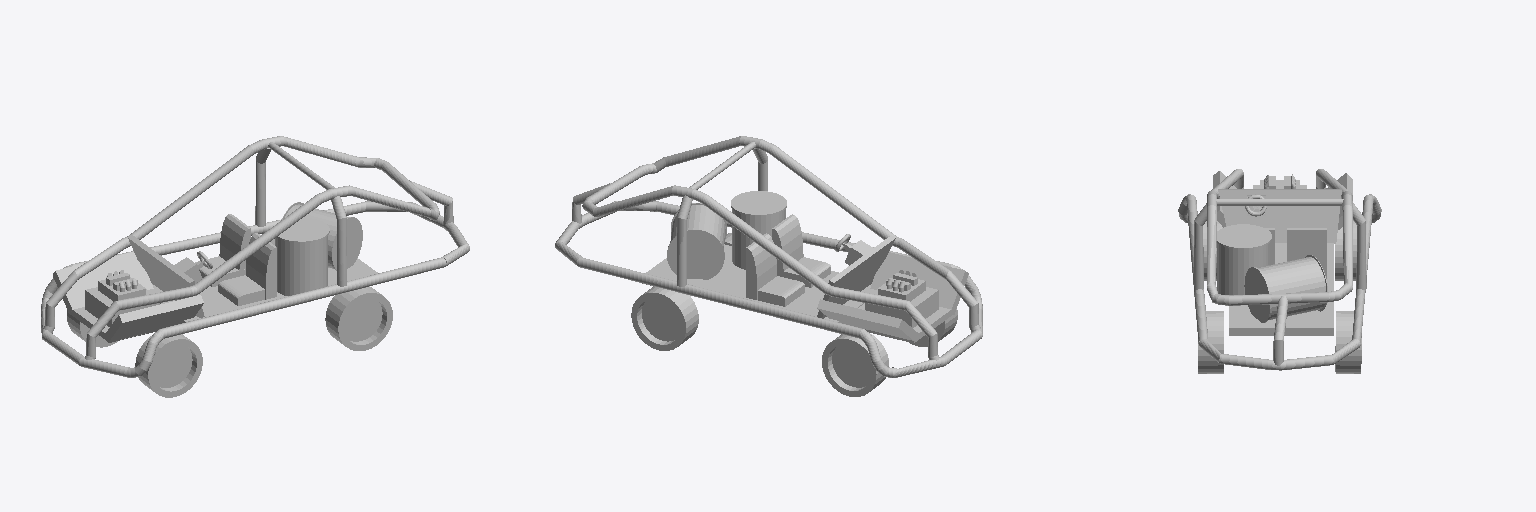
The model's file is buggy.obj.
3 renders of one model, left to right at view 1: azimuth 30°, elevation 25°; view 2: azimuth 150°, elevation 25°; view 3: azimuth 270°, elevation 25°, orthographic.
Parts seen in each view (by area): view 1: Cylinder, Carrocería, llantas, Cylinder.001, volante, Cylinder.004, Cylinder.003, respaldo_c, respaldo_p, asiento_c; view 2: Cylinder, Carrocería, llantas, Cylinder.003, Cylinder.001, volante, Cylinder.004, respaldo_p, respaldo_c, asiento_p, asiento_c; view 3: Cylinder, volante, Carrocería, Cylinder.003, llantas, Cylinder.001, Cylinder.004, respaldo_p, Cylinder.005.
Boxes of the visible parts, box(x1,y1,x2,y2) form: Cylinder: box(41, 136, 469, 377); Carrocería: box(53, 252, 377, 342); llantas: box(67, 239, 392, 397); Cylinder.001: box(275, 218, 329, 295); volante: box(128, 235, 212, 317); Cylinder.004: box(255, 148, 346, 286); Cylinder.003: box(282, 202, 362, 270); respaldo_c: box(246, 233, 276, 299); respaldo_p: box(219, 214, 250, 274); asiento_c: box(218, 275, 264, 305); Cylinder: box(555, 136, 982, 377); Carrocería: box(642, 244, 968, 342); llantas: box(631, 233, 957, 396); Cylinder.003: box(667, 203, 726, 279); Cylinder.001: box(731, 191, 786, 269); volante: box(817, 234, 895, 318); Cylinder.004: box(677, 148, 767, 286); respaldo_p: box(746, 233, 776, 299); respaldo_c: box(772, 214, 803, 275); asiento_p: box(758, 276, 804, 306); asiento_c: box(778, 257, 830, 287); Cylinder: box(1178, 169, 1381, 370); volante: box(1218, 189, 1341, 243); Carrocería: box(1213, 171, 1352, 335); Cylinder.003: box(1244, 255, 1327, 322); llantas: box(1198, 221, 1361, 373); Cylinder.001: box(1217, 224, 1271, 294); Cylinder.004: box(1194, 203, 1366, 289); respaldo_p: box(1287, 228, 1326, 278); Cylinder.005: box(1273, 296, 1287, 365).
Bounding box in the file's own units: 8.67 × 3.43 × 3.89.